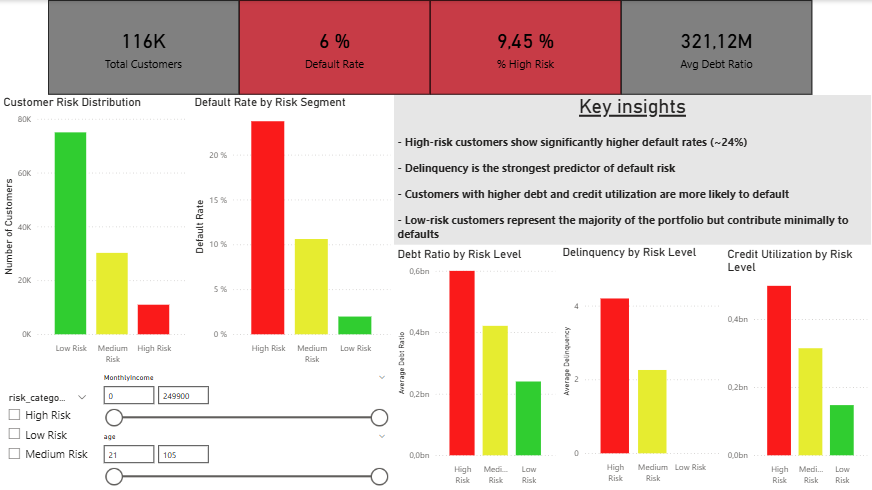

The page's visual inventory and layout, read from the dashboard file:
{"tool":"powerbi","page":{"name":"Página 1","canvas":[1280,720],"ordinal":0},"visuals":[{"type":"card","fields":{"Values":["credit_risk_cleaned.Total Customers"]},"box":[70.5,0,280.5,139.4],"z":0},{"type":"card","fields":{"Values":["credit_risk_cleaned.Default Rate"]},"box":[351.1,0,280.5,139.4],"z":1000},{"type":"card","fields":{"Values":["credit_risk_cleaned.% High Risk"]},"box":[631.6,0,280.5,139.4],"z":2000},{"type":"card","fields":{"Values":["credit_risk_cleaned.Avg Debt Ratio"]},"box":[912.1,0,280.5,139.4],"z":3000},{"type":"clusteredColumnChart","title":"Customer Risk Distribution","fields":{"Category":["credit_risk_cleaned.risk_category"],"Y":["CountNonNull(credit_risk_cleaned.risk_category)"]},"box":[0,139.6,280.7,402.6],"z":4000},{"type":"clusteredColumnChart","title":"Default Rate by Risk Segment","fields":{"Category":["credit_risk_cleaned.risk_category"],"Y":["credit_risk_cleaned.Default Rate"]},"box":[280.7,139.6,298.3,402.6],"z":5000},{"type":"clusteredColumnChart","title":"Debt Ratio by Risk Level","fields":{"Category":["credit_risk_cleaned.risk_category"],"Y":["Avg(credit_risk_cleaned.debt_to_income)"]},"box":[578.9,362.9,242.4,357.1],"z":6000},{"type":"clusteredColumnChart","title":"Delinquency by Risk Level","fields":{"Category":["credit_risk_cleaned.risk_category"],"Y":["Avg(credit_risk_cleaned.total_delinquency)"]},"box":[821.4,360,242.4,357.1],"z":7000},{"type":"clusteredColumnChart","title":"Credit Utilization by Risk Level","fields":{"Category":["credit_risk_cleaned.risk_category"],"Y":["Avg(credit_risk_cleaned.RevolvingUtilizationOfUnsecuredLines)"]},"box":[1063.8,362.9,216,357.1],"z":8000},{"type":"slicer","fields":{"Values":["credit_risk_cleaned.risk_category"]},"box":[0,571.6,139.6,116.1],"z":9000},{"type":"slicer","fields":{"Values":["credit_risk_cleaned.MonthlyIncome"]},"box":[139.6,543.7,439.3,86.7],"z":10000},{"type":"slicer","fields":{"Values":["credit_risk_cleaned.age"]},"box":[139.6,630.4,439.3,89.6],"z":11000},{"type":"textbox","title":"Key insights","box":[578.9,139.6,700.9,220.4],"z":11001}]}

Visuals, with their boxes in screenshot pixels (x1, y1, x2, y2), scaled from the page's 1280x720 canvas onto the 872x490 screenshot:
card - credit_risk_cleaned.Total Customers: bbox=(48, 0, 239, 95)
card - credit_risk_cleaned.Default Rate: bbox=(239, 0, 430, 95)
card - credit_risk_cleaned.% High Risk: bbox=(430, 0, 621, 95)
card - credit_risk_cleaned.Avg Debt Ratio: bbox=(621, 0, 812, 95)
"Customer Risk Distribution" clusteredColumnChart: bbox=(0, 95, 191, 369)
"Default Rate by Risk Segment" clusteredColumnChart: bbox=(191, 95, 394, 369)
"Debt Ratio by Risk Level" clusteredColumnChart: bbox=(394, 247, 560, 489)
"Delinquency by Risk Level" clusteredColumnChart: bbox=(560, 245, 725, 488)
"Credit Utilization by Risk Level" clusteredColumnChart: bbox=(725, 247, 871, 489)
slicer - credit_risk_cleaned.risk_category: bbox=(0, 389, 95, 468)
slicer - credit_risk_cleaned.MonthlyIncome: bbox=(95, 370, 394, 429)
slicer - credit_risk_cleaned.age: bbox=(95, 429, 394, 489)
"Key insights" textbox: bbox=(394, 95, 871, 245)
